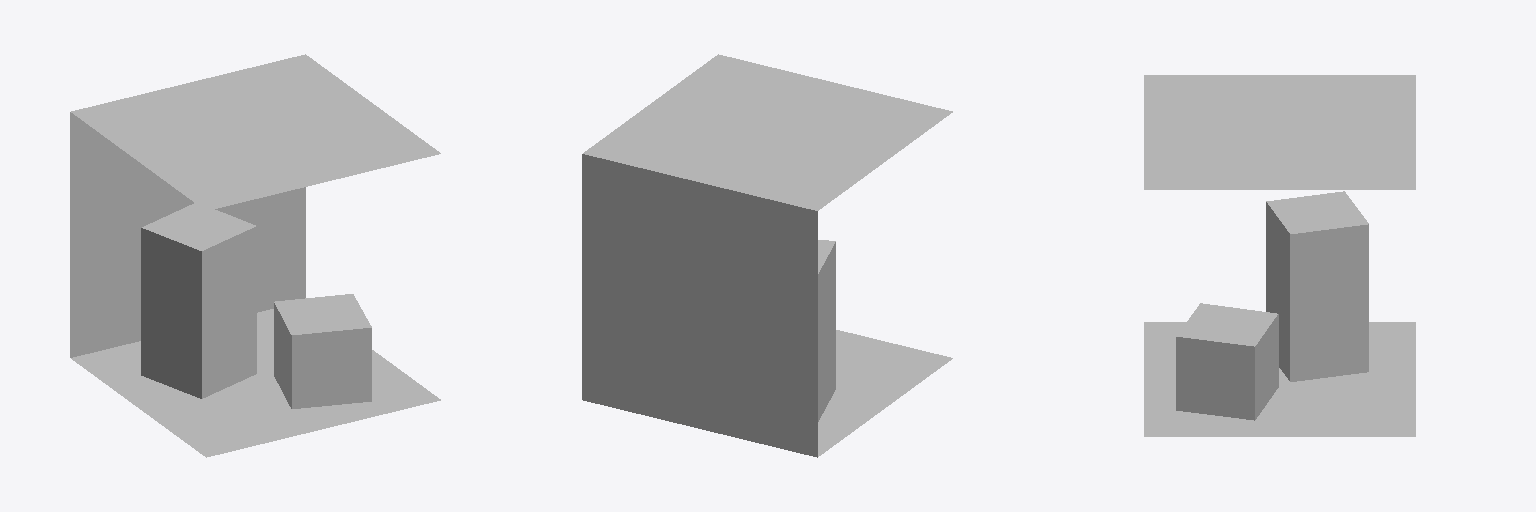
The model's file is CornellDiffuse.obj.
3 renders of one model, left to right at view 1: azimuth 30°, elevation 25°; view 2: azimuth 150°, elevation 25°; view 3: azimuth 270°, elevation 25°, orthographic.
Parts seen in each view (by area): view 1: default; view 2: default; view 3: default.
Part boxes in pixels (left/top/right/bottom): default: left=70, top=54, right=440, bottom=457; default: left=582, top=54, right=952, bottom=457; default: left=1144, top=75, right=1415, bottom=436.
Bounding box in the file's own units: 5.5 × 5.5 × 5.5.